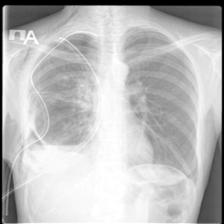tuberculosis: (26, 24, 201, 191)
